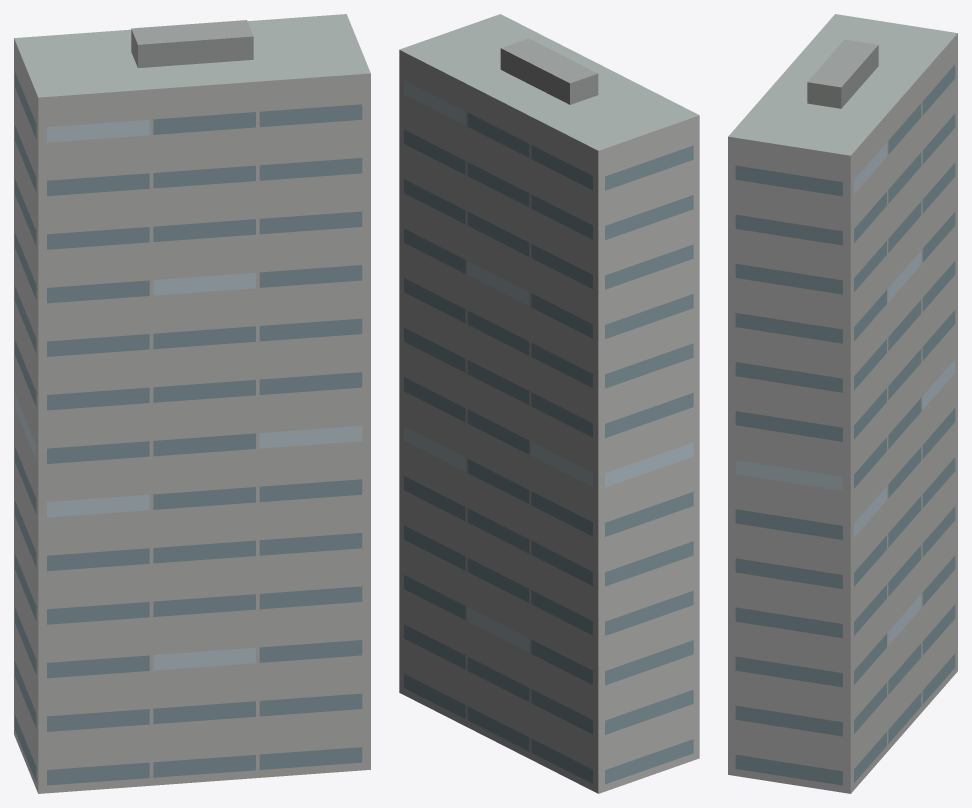
File: fallback-jamsil-els-136.glb
3 renders of one model, left to right at view 1: azimuth 30°, elevation 25°; view 2: azimuth 150°, elevation 25°; view 3: azimuth 270°, elevation 25°, orthographic. The views are drawn at different scales.
Parts seen in each view (by area): view 1: fallback-jamsil-els-136; view 2: fallback-jamsil-els-136; view 3: fallback-jamsil-els-136.
Boxes of the visible parts, x1,y1,x2,y2 form: fallback-jamsil-els-136: (14, 14, 370, 793); fallback-jamsil-els-136: (399, 14, 699, 793); fallback-jamsil-els-136: (728, 14, 957, 793).
Size of the model in its own units: 34.11 by 74 by 23.37.
